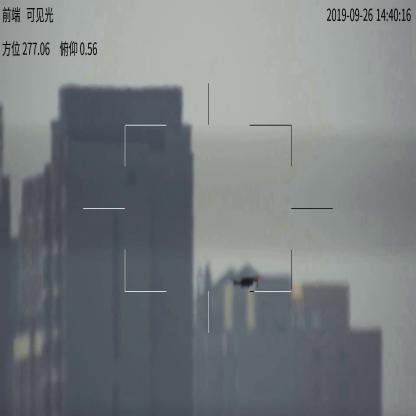uav: (230, 274, 262, 290)
